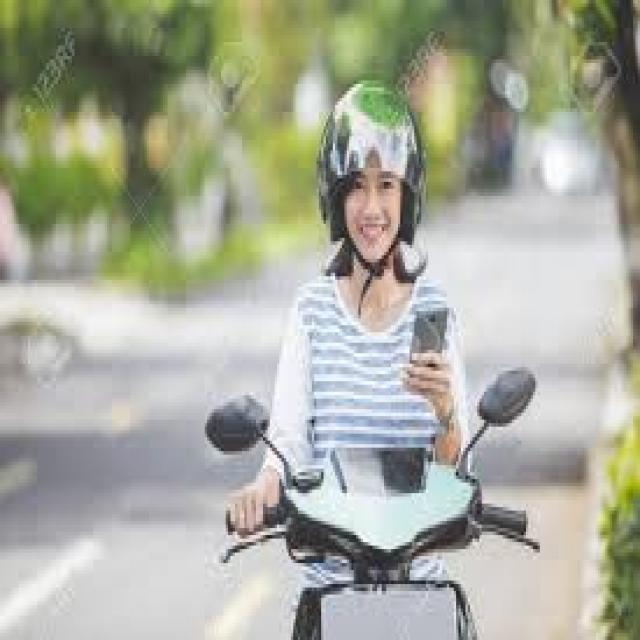Usage Of Phone While Riding: (266, 63, 478, 434)
